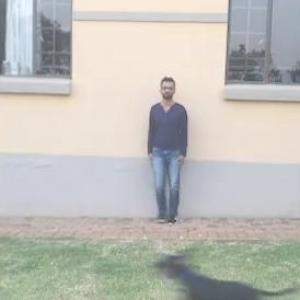follow: (146, 74, 190, 226)
